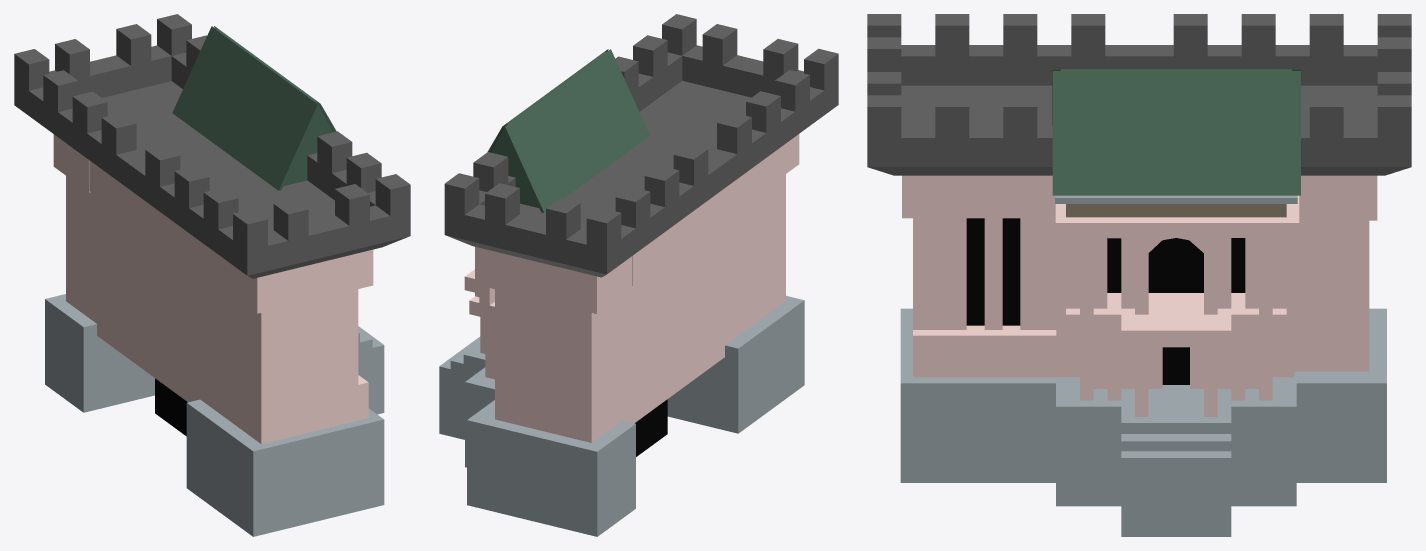
File: building_2.fbx
3 views of the same model, side by side, from view 1: azimuth 30°, elevation 25°; view 2: azimuth 150°, elevation 25°; view 3: azimuth 270°, elevation 25° (orthographic). The views are drawn at different scales.
Visible parts, largest first — view 1: Cube.001, Cube.005, Cube, Cube.004, Cube.006; view 2: Cube.001, Cube.005, Cube, Cube.004, Cube.006; view 3: Cube.001, Cube, Cube.005, Cube.004, Cube.006, Cube.007, Cube.002, Cube.003.
Part boxes in pixels (left/top/right/bottom): Cube.001: left=53, top=134, right=373, bottom=443; Cube.005: left=14, top=14, right=410, bottom=278; Cube: left=45, top=294, right=384, bottom=536; Cube.004: left=172, top=26, right=336, bottom=190; Cube.006: left=155, top=378, right=187, bottom=436; Cube.001: left=464, top=134, right=799, bottom=442; Cube.005: left=444, top=14, right=838, bottom=277; Cube: left=439, top=295, right=804, bottom=536; Cube.004: left=487, top=49, right=649, bottom=212; Cube.006: left=635, top=399, right=667, bottom=456; Cube.001: left=902, top=175, right=1377, bottom=416; Cube: left=900, top=308, right=1386, bottom=536; Cube.005: left=867, top=14, right=1411, bottom=175; Cube.004: left=1052, top=69, right=1300, bottom=195; Cube.006: left=1107, top=237, right=1245, bottom=384; Cube.007: left=966, top=218, right=1020, bottom=325; Cube.002: left=1066, top=204, right=1286, bottom=217; Cube.003: left=1055, top=195, right=1297, bottom=203.
Bounding box in the file's own units: 601 × 827 × 988.
